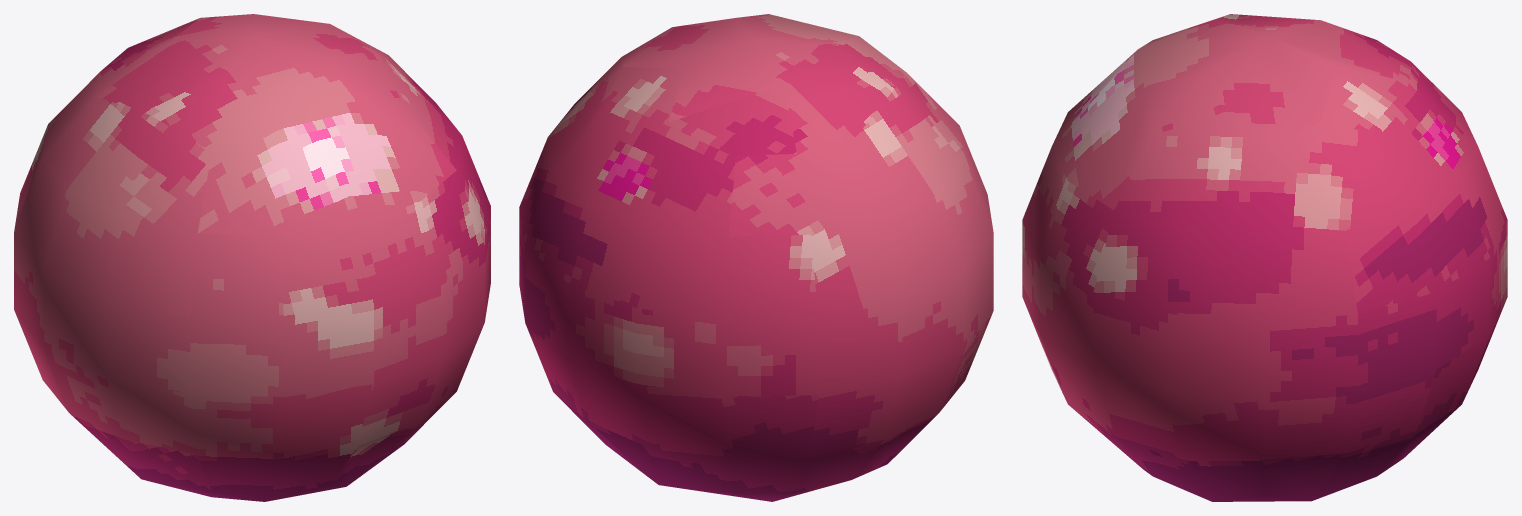
Rendered from gumball_m.glb.
3 renders of one model, left to right at view 1: azimuth 30°, elevation 25°; view 2: azimuth 150°, elevation 25°; view 3: azimuth 270°, elevation 25°, orthographic.
Visible parts, largest first — view 1: mesh; view 2: mesh; view 3: mesh.
Boxes of the visible parts, x1=… form: mesh: x1=14, y1=14, x2=490, y2=501; mesh: x1=519, y1=14, x2=993, y2=501; mesh: x1=1022, y1=14, x2=1507, y2=501.
Size of the model in its own units: 0.0216 by 0.022 by 0.0216.
1 material, 1 textured.
